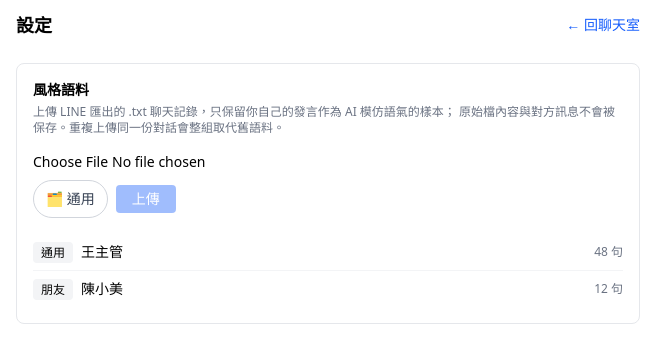
Test: SettingsApp — 上傳語料 › 透過選單改名分類後，語料清單的分類 badge 同步更新
Click the button with aria-label "語料分類" at (70, 199), box [33, 180, 108, 218]
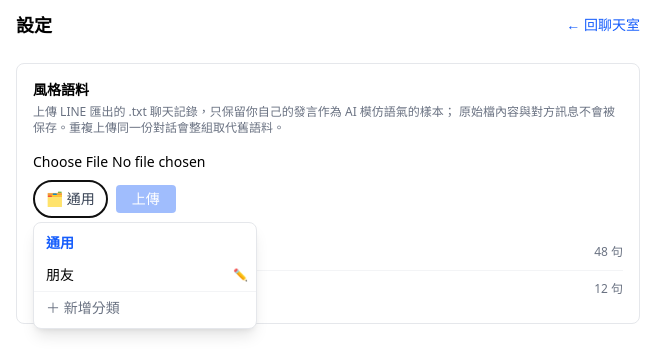
Click the button named "重新命名 朋友" at (240, 275), box [225, 267, 256, 283]
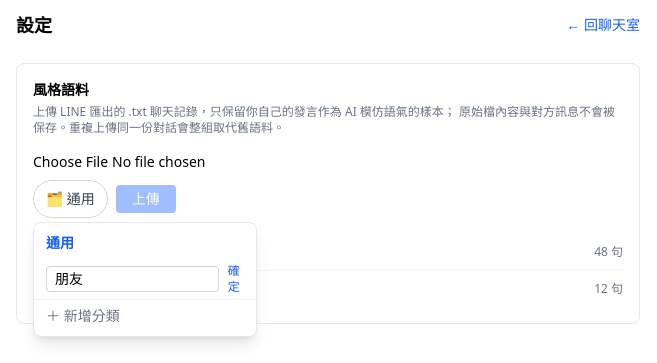
Replace the text in the field named "分類新名稱" with "麻吉" at (133, 279), box [46, 266, 219, 292]
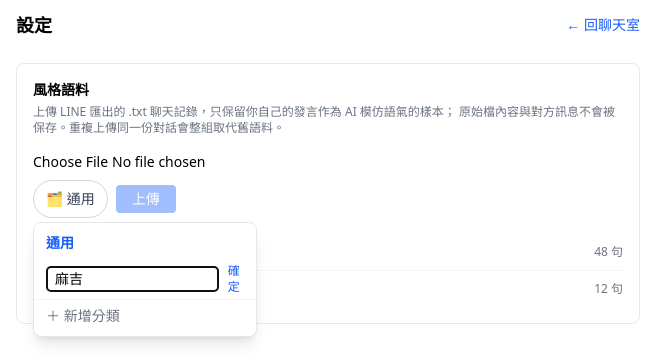
Click the button "確定" at (234, 279), box [223, 263, 244, 295]
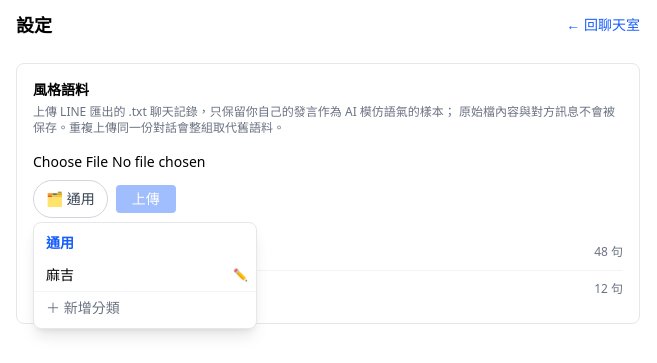
expect the text "麻吉" is shown: met, box [33, 279, 73, 300]
